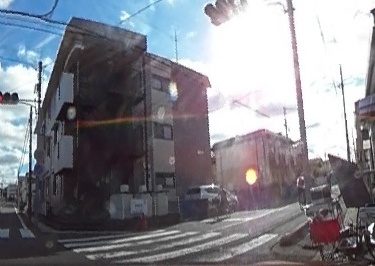person: (296, 172, 305, 204)
